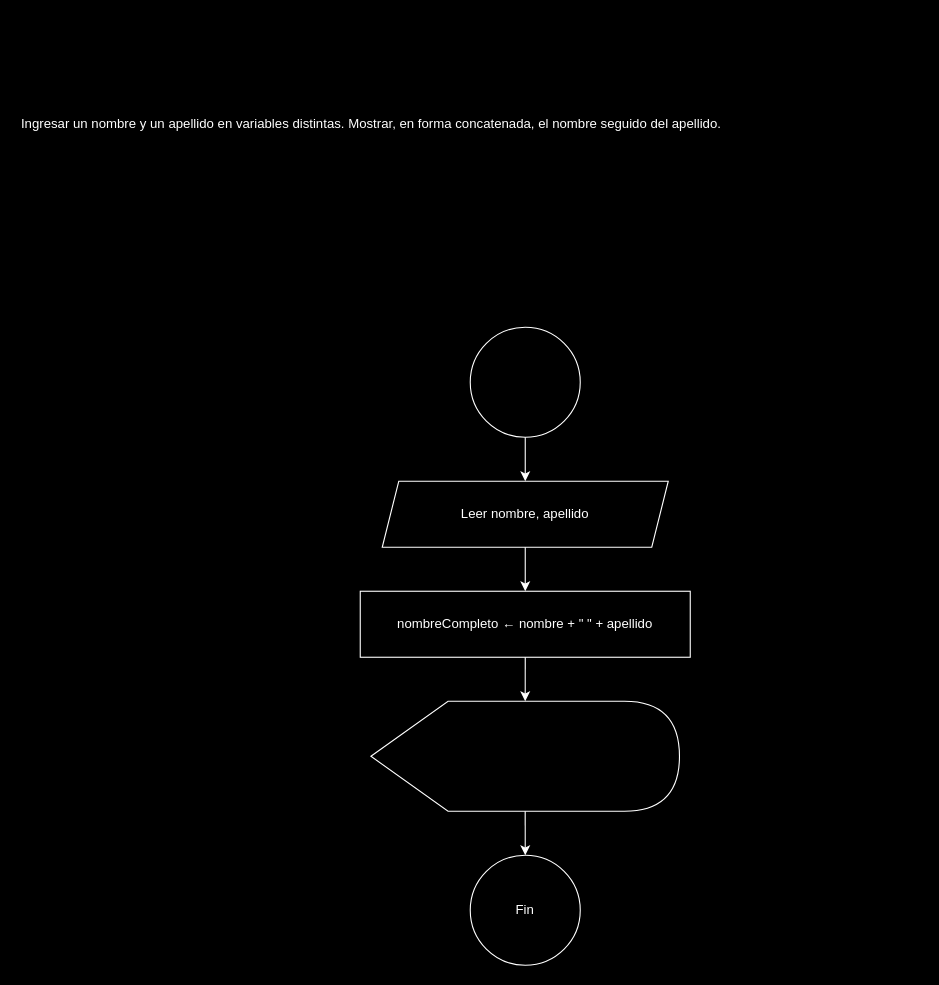
This 939x985 diagram has some shape labels left out. Here are the shapes that lost their labels. From the top down, the centre of each, then its label:
At point 524,381: "Inicio".
At point 524,755: "Mostrar nombreCompleto".
